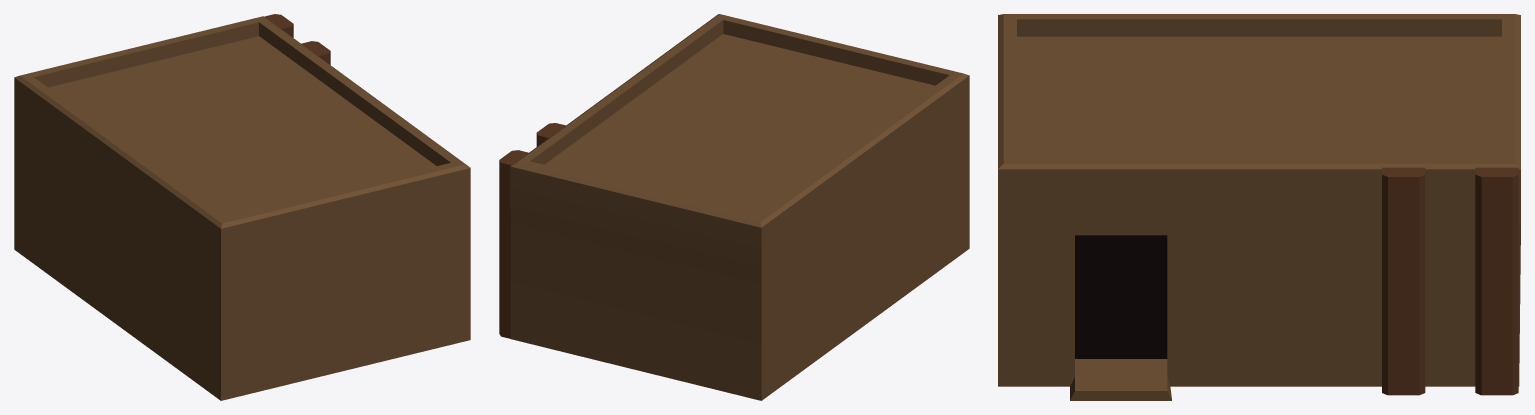
The model's file is SM_small_house_01.fbx.
3 views of the same model, side by side, from view 1: azimuth 30°, elevation 25°; view 2: azimuth 150°, elevation 25°; view 3: azimuth 270°, elevation 25° (orthographic). The views are drawn at different scales.
Parts seen in each view (by area): view 1: small_house_01; view 2: small_house_01; view 3: small_house_01.
Part boxes in pixels (left/top/right/bottom): small_house_01: left=14, top=14, right=470, bottom=400; small_house_01: left=499, top=14, right=969, bottom=400; small_house_01: left=998, top=14, right=1520, bottom=400.
Bounding box in the file's own units: 651 × 399 × 855.
